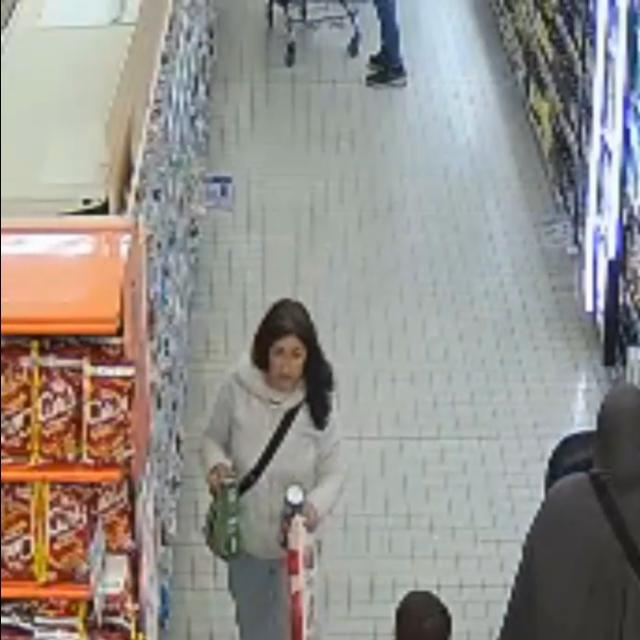article: (288, 512, 317, 639), (278, 481, 304, 550), (220, 477, 238, 559)
bags: (238, 403, 302, 502), (590, 472, 639, 579)
hands: (208, 463, 232, 496), (303, 502, 319, 533)
person: (202, 300, 345, 639), (499, 473, 639, 639)
